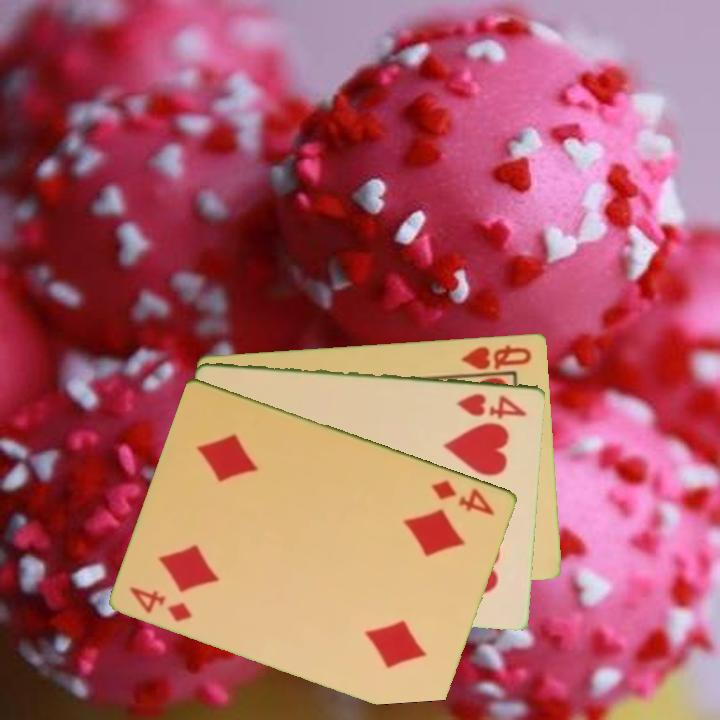4d: (428, 475, 498, 518), (126, 582, 196, 625)
4h: (453, 389, 530, 419)
Qh: (457, 341, 534, 372)
